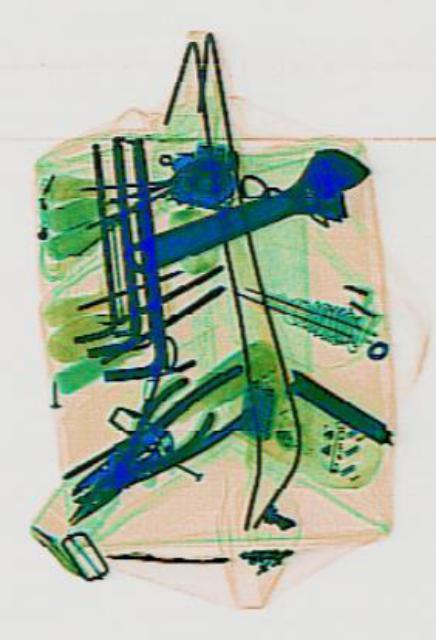Pliers: (59, 354, 259, 528), (52, 366, 217, 548)
Wrench: (113, 130, 374, 298)
